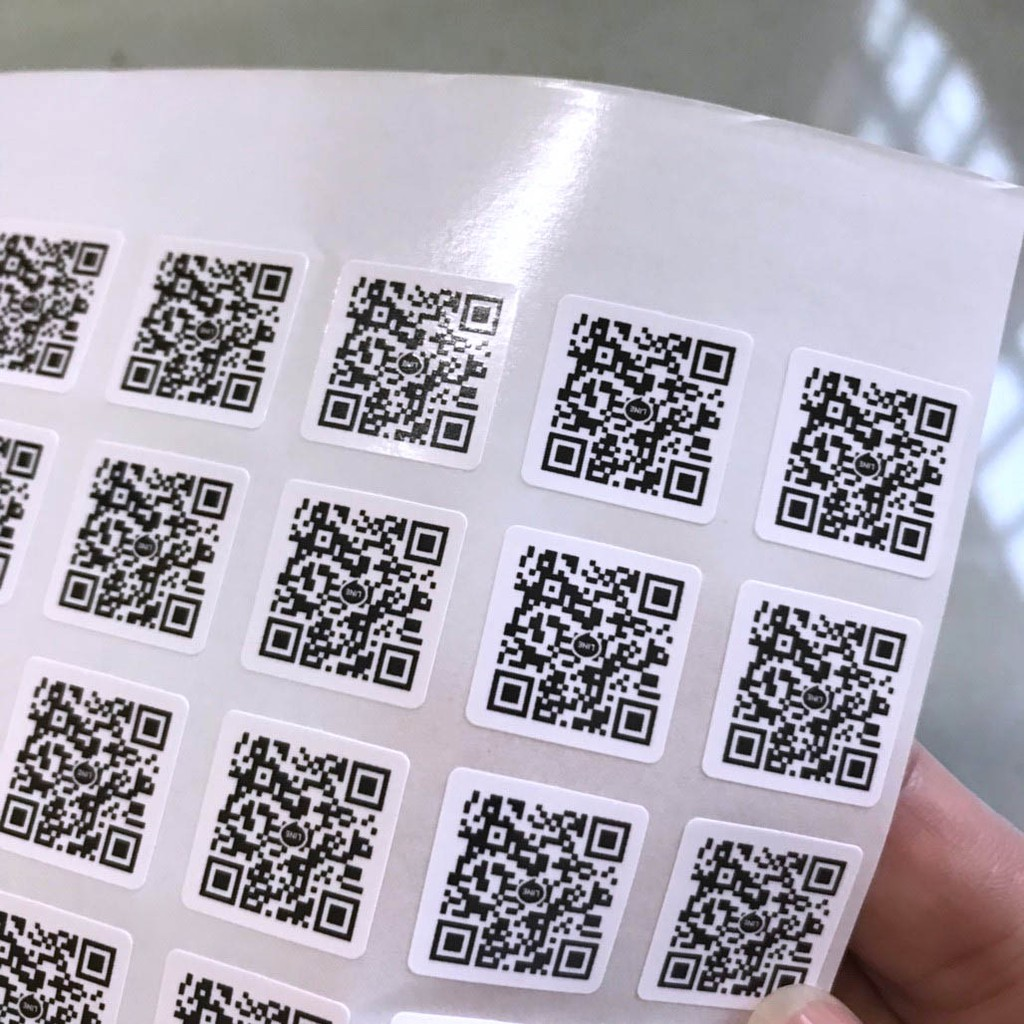QRCode: (198, 733, 391, 944), (487, 545, 686, 749), (538, 314, 737, 510), (427, 791, 633, 980), (260, 497, 449, 695), (720, 598, 909, 793), (770, 368, 957, 562), (315, 275, 505, 457), (1, 676, 169, 877), (57, 456, 233, 640), (658, 836, 845, 1006), (123, 252, 290, 413), (1, 232, 113, 379), (1, 907, 116, 1024)
